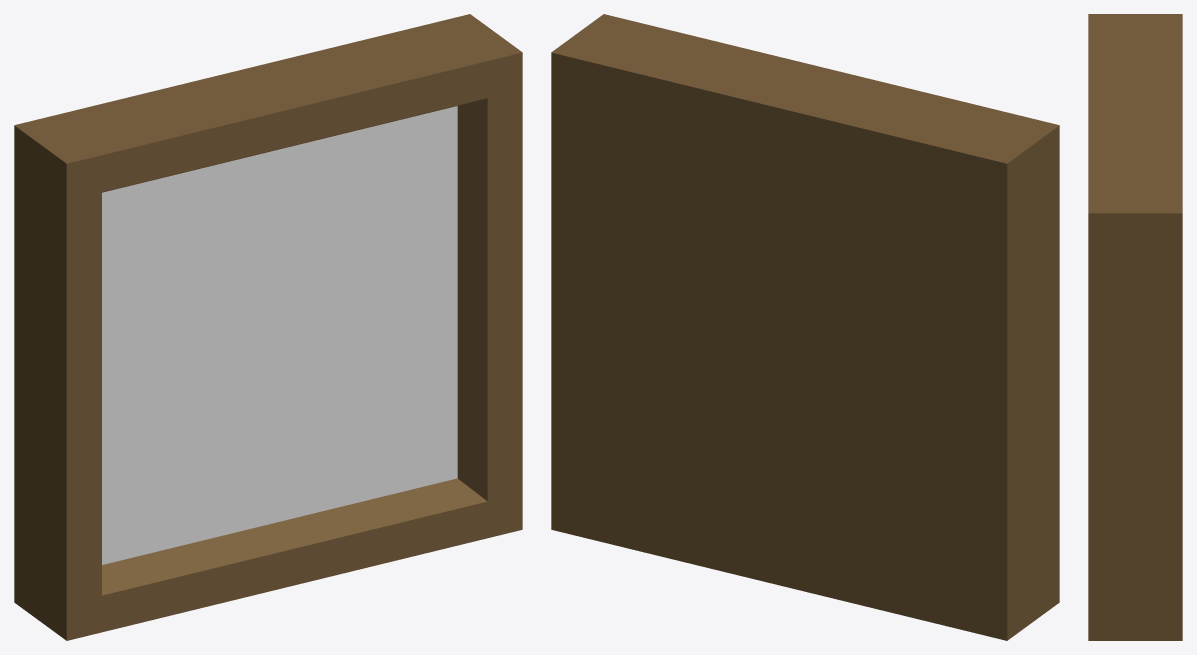
Rendered from frame.glb.
3 views of the same model, side by side, from view 1: azimuth 30°, elevation 25°; view 2: azimuth 150°, elevation 25°; view 3: azimuth 270°, elevation 25° (orthographic). The views are drawn at different scales.
Visible parts, largest first — view 1: Cube.002; view 2: Cube.002; view 3: Cube.002.
Part boxes in pixels (x1,y1,x2,y2): Cube.002: [14, 14, 522, 640]; Cube.002: [551, 14, 1059, 640]; Cube.002: [1088, 14, 1182, 640].
Bounding box in the file's own units: 0.773 × 0.773 × 0.1546.
